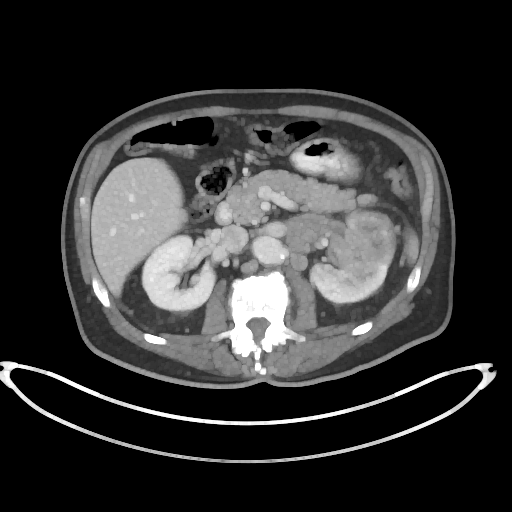Lesion: (339, 208, 398, 275)
